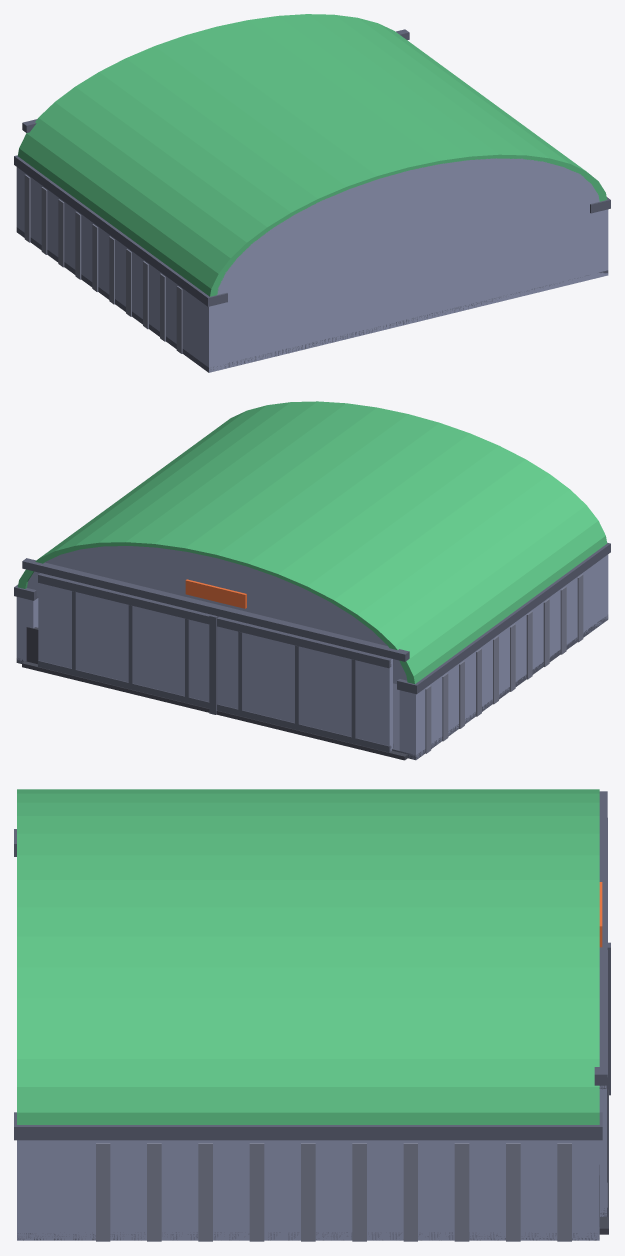
Rendered from hangar-avion.glb.
The picture shows the model from 3 angles, top to bottom: view 1: azimuth 30°, elevation 25°; view 2: azimuth 150°, elevation 25°; view 3: azimuth 270°, elevation 25°; orthographic projection. The views are drawn at different scales.
Visible parts, largest first — view 1: toit-demi-cylindre, mur-arriere, pignon-arriere, mur-gauche, longrine-g, dalle, mur-droit; view 2: toit-demi-cylindre, vantail-gauche, vantail-droite, pignon-avant, mur-gauche, rail-porte, longrine-g, traverse-haute-gauche, seuil-porte, traverse-haute-droite, dalle, traverse-basse-gauche (+4 smaller); view 3: toit-demi-cylindre, mur-droit, longrine-d, rail-porte, nervure-d-2, nervure-d-6, nervure-d-0, nervure-d-1, nervure-d-3, nervure-d-4, nervure-d-5, nervure-d-7 (+4 smaller).
Boxes of the visible parts, left/top/right/bottom form: toit-demi-cylindre: left=18, top=14, right=607, bottom=296; mur-arriere: left=225, top=210, right=591, bottom=368; pignon-arriere: left=217, top=158, right=599, bottom=298; mur-gauche: left=16, top=167, right=225, bottom=372; longrine-g: left=14, top=155, right=227, bottom=306; dalle: left=16, top=227, right=608, bottom=372; mur-droit: left=591, top=209, right=608, bottom=279; toit-demi-cylindre: left=18, top=401, right=607, bottom=683; vantail-gauche: left=217, top=626, right=392, bottom=751; vantail-droite: left=38, top=583, right=209, bottom=701; pignon-avant: left=27, top=546, right=406, bottom=683; mur-gauche: left=399, top=554, right=608, bottom=759; rail-porte: left=22, top=558, right=409, bottom=661; longrine-g: left=397, top=542, right=610, bottom=694; traverse-haute-gauche: left=217, top=616, right=393, bottom=668; seuil-porte: left=22, top=661, right=407, bottom=760; traverse-haute-droite: left=38, top=573, right=210, bottom=624; dalle: left=16, top=615, right=608, bottom=759; traverse-basse-gauche: left=217, top=704, right=393, bottom=752; toit-demi-cylindre: left=17, top=789, right=599, bottom=1124; mur-droit: left=17, top=1140, right=599, bottom=1240; longrine-d: left=14, top=1112, right=602, bottom=1140; rail-porte: left=594, top=791, right=607, bottom=1085; nervure-d-2: left=454, top=1143, right=469, bottom=1241; nervure-d-6: left=249, top=1143, right=264, bottom=1241; nervure-d-0: left=557, top=1143, right=571, bottom=1241; nervure-d-1: left=506, top=1143, right=520, bottom=1241; nervure-d-3: left=403, top=1143, right=417, bottom=1241; nervure-d-4: left=352, top=1143, right=366, bottom=1241; nervure-d-5: left=301, top=1143, right=315, bottom=1241; nervure-d-7: left=198, top=1143, right=212, bottom=1241.
Bounding box in the file's own units: 1.21 × 0.45 × 1.02.
